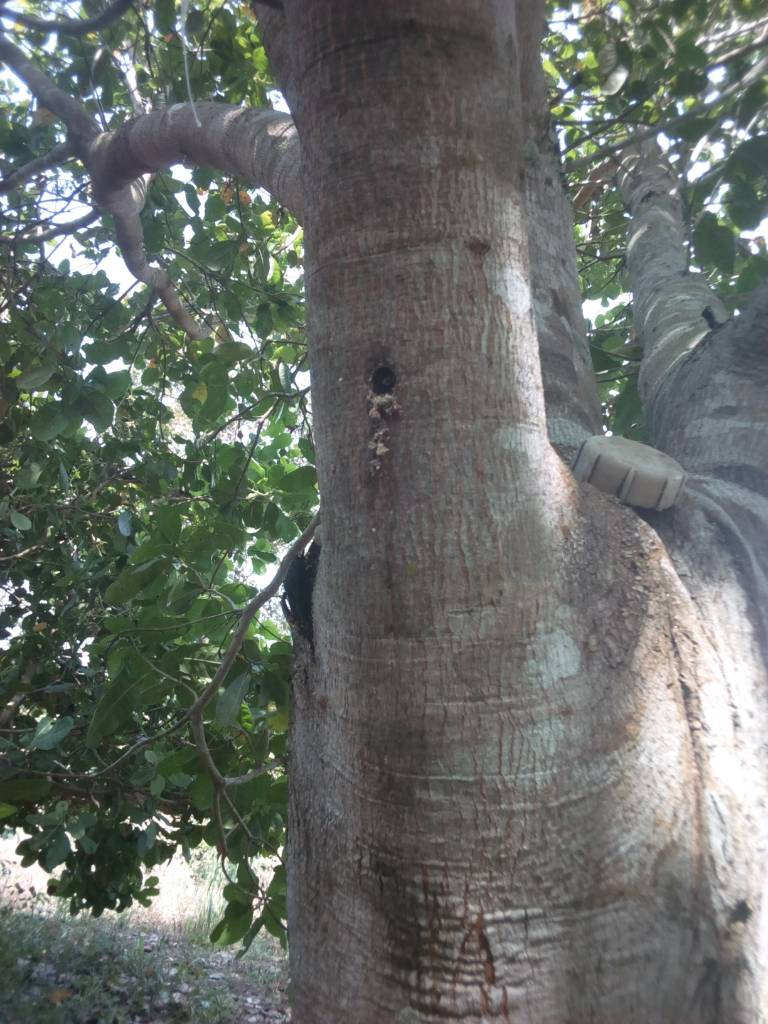Apate terebrans: (329, 352, 458, 444)
